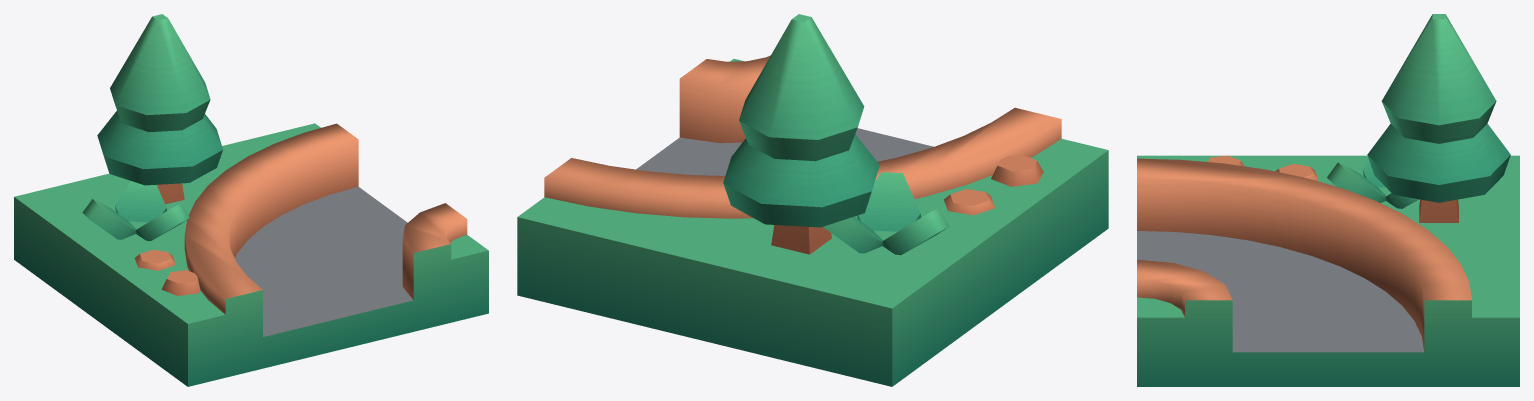
The model's file is tile-river-corner.fbx.
3 views of the same model, side by side, from view 1: azimuth 30°, elevation 25°; view 2: azimuth 150°, elevation 25°; view 3: azimuth 270°, elevation 25° (orthographic). The views are drawn at different scales.
Parts seen in each view (by area): view 1: tile-river-corner; view 2: tile-river-corner; view 3: tile-river-corner.
Boxes of the visible parts, left/top/right/bottom form: tile-river-corner: left=14, top=14, right=488, bottom=386; tile-river-corner: left=517, top=14, right=1108, bottom=386; tile-river-corner: left=1137, top=14, right=1519, bottom=386.
Size of the model in its own units: 100 by 77 by 100.
